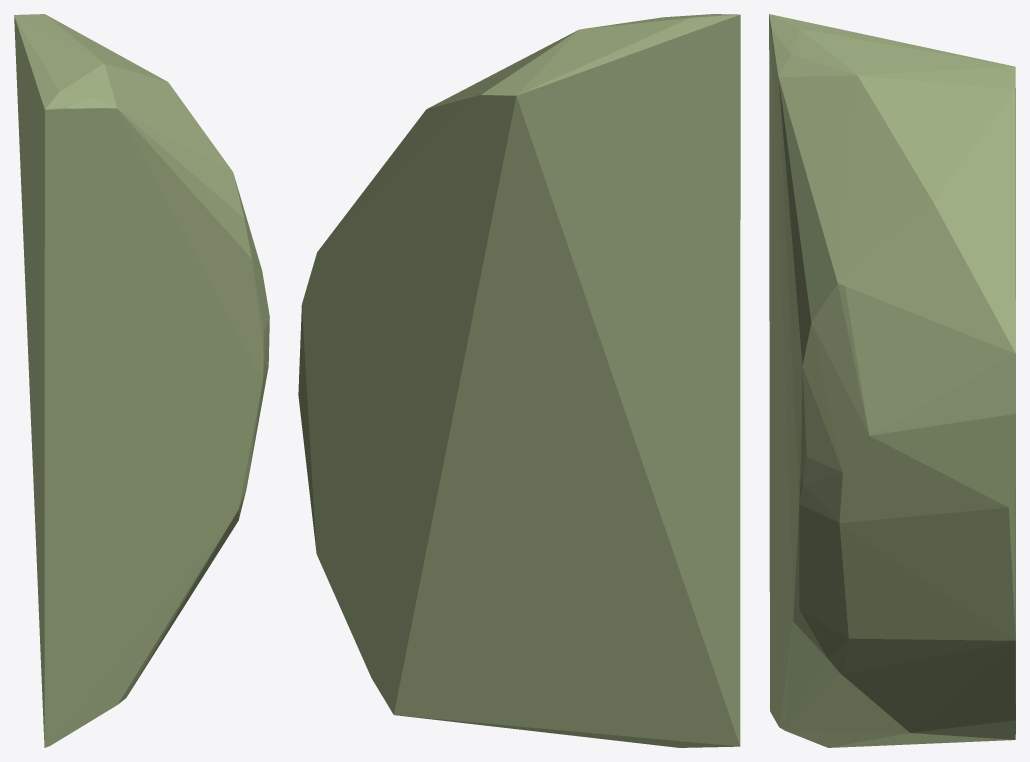
The model's file is bodyPart_bumper_front_c01.glb.
3 views of the same model, side by side, from view 1: azimuth 30°, elevation 25°; view 2: azimuth 150°, elevation 25°; view 3: azimuth 270°, elevation 25° (orthographic). The views are drawn at different scales.
Parts seen in each view (by area): view 1: geometry_0; view 2: geometry_0; view 3: geometry_0.
Part boxes in pixels (x1,y1,x2,y2): geometry_0: (14, 14, 269, 747); geometry_0: (298, 14, 740, 747); geometry_0: (769, 14, 1015, 747).
Bounding box in the file's own units: 0.2158 × 0.4776 × 0.1536.
